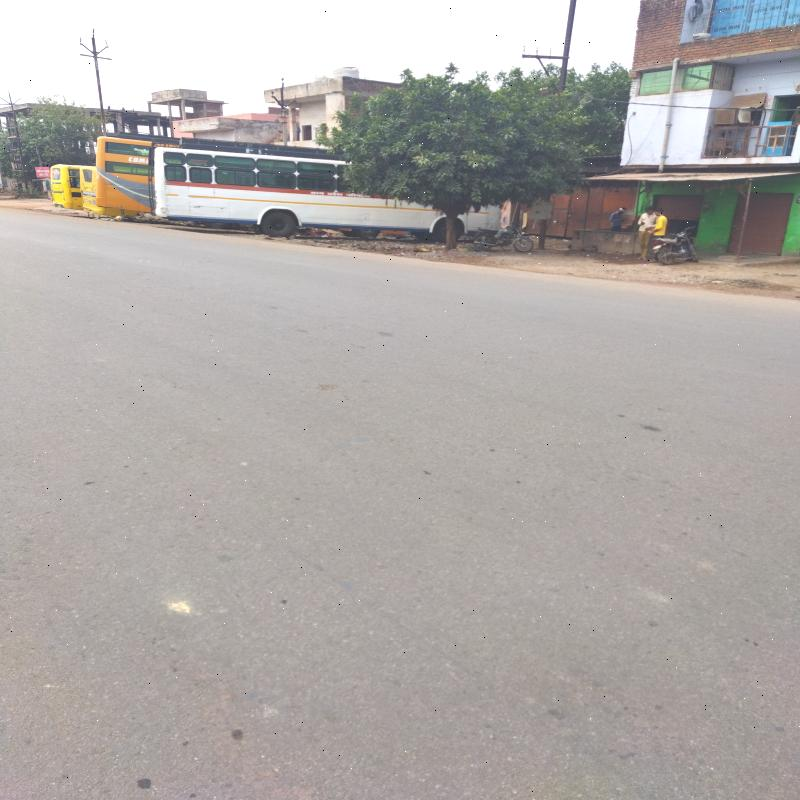bus: (100, 136, 510, 231)
